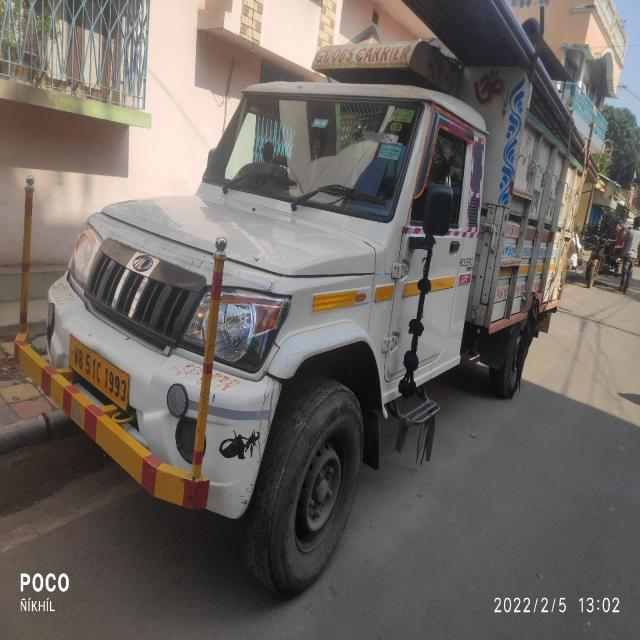light_vehicle: (14, 73, 594, 476)
